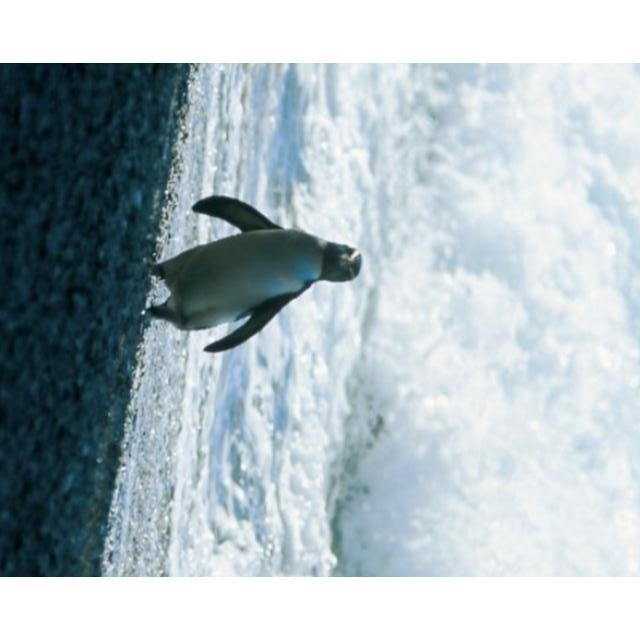penguin: (165, 274, 435, 346)
